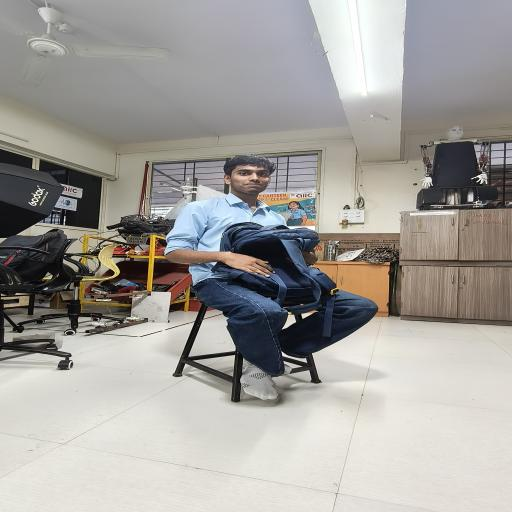survivor: (163, 154, 379, 401)
